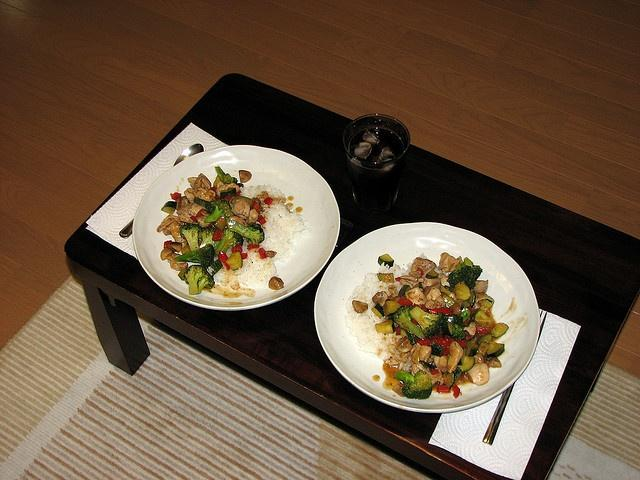Meja: (62, 71, 639, 479)
